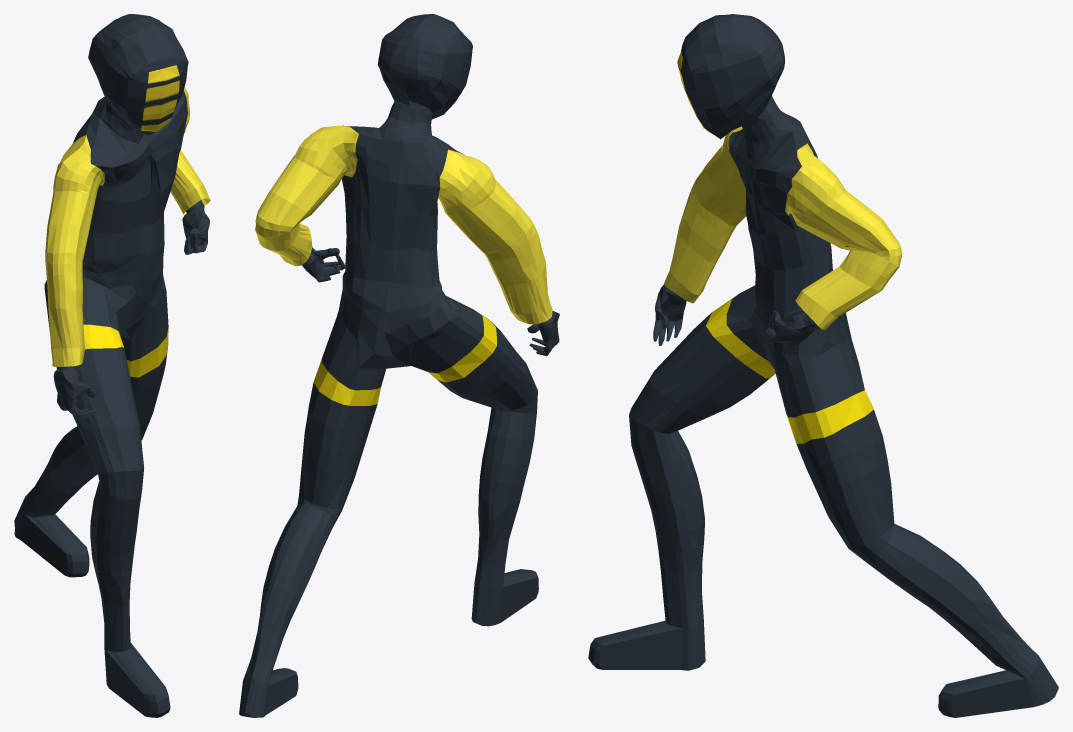
The model's file is Sentry_Stun_000006.obj.
3 renders of one model, left to right at view 1: azimuth 30°, elevation 25°; view 2: azimuth 150°, elevation 25°; view 3: azimuth 270°, elevation 25°, orthographic. The views are drawn at different scales.
Visible parts, largest first — view 1: Cube; view 2: Cube; view 3: Cube.
Part boxes in pixels (left/top/right/bottom): Cube: left=14, top=14, right=210, bottom=717; Cube: left=239, top=14, right=559, bottom=717; Cube: left=588, top=14, right=1058, bottom=717.
Bounding box in the file's own units: 1.27 × 3.52 × 2.23.
